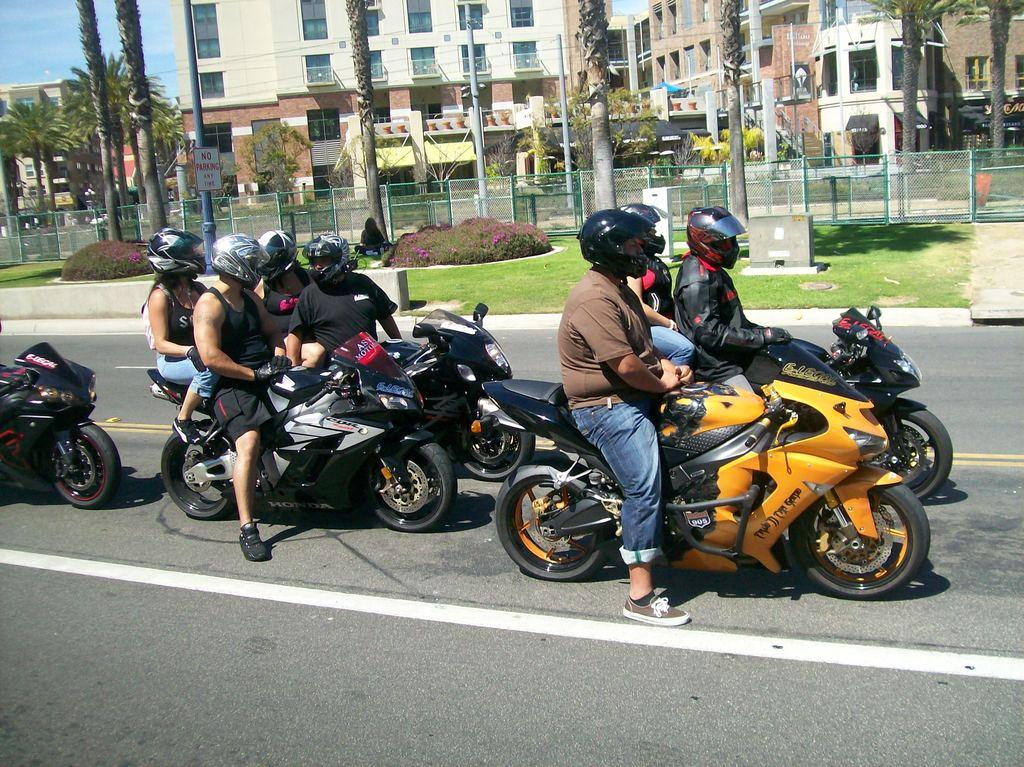helmet: (578, 208, 656, 279), (686, 206, 748, 270), (211, 232, 271, 291), (607, 203, 672, 255), (147, 227, 207, 275), (302, 231, 350, 285), (253, 229, 298, 284)
